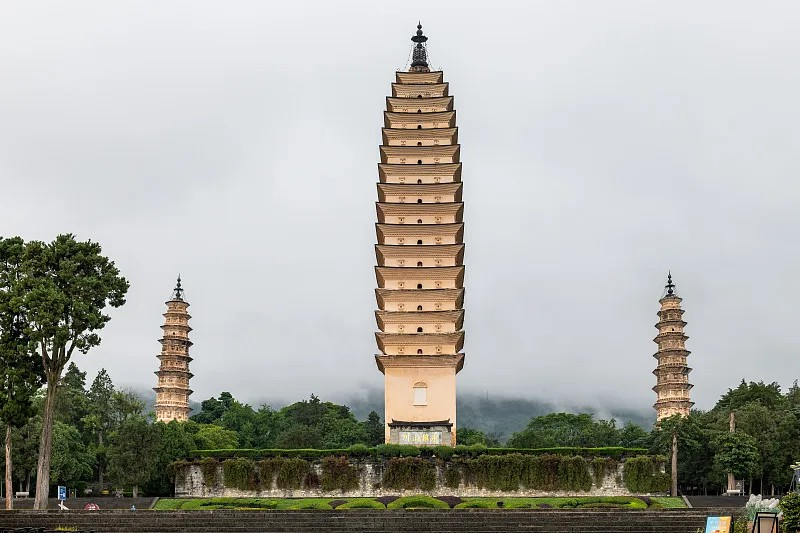ThreePagoda: (374, 20, 465, 446)
